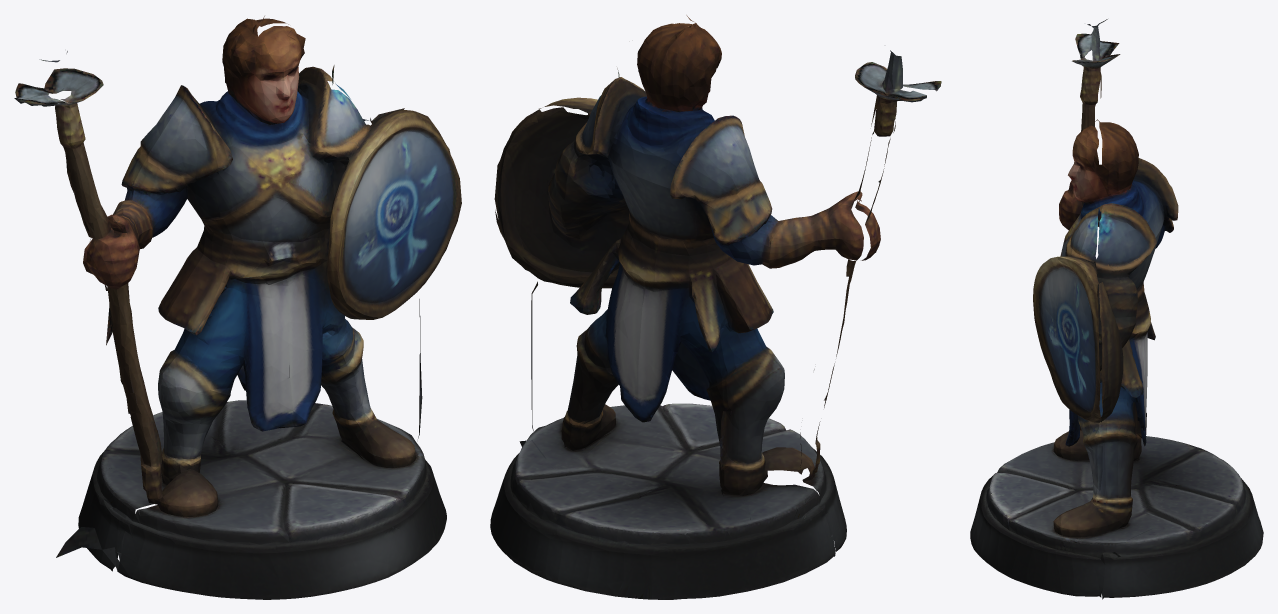
3 views of the same model, side by side, from view 1: azimuth 30°, elevation 25°; view 2: azimuth 150°, elevation 25°; view 3: azimuth 270°, elevation 25° (orthographic). The views are drawn at different scales.
Visible parts, largest first — view 1: wP.glb; view 2: wP.glb; view 3: wP.glb.
Part boxes in pixels (bbox=[...]): wP.glb: bbox=[14, 16, 461, 599]; wP.glb: bbox=[490, 15, 941, 599]; wP.glb: bbox=[970, 19, 1263, 599].
Size of the model in its own units: 0.5017 by 0.5804 by 0.3513.
1 material, 1 textured.
